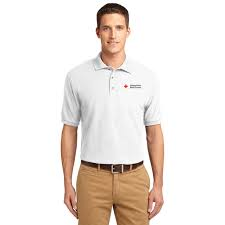S_polo shirt: (59, 53, 167, 166)
